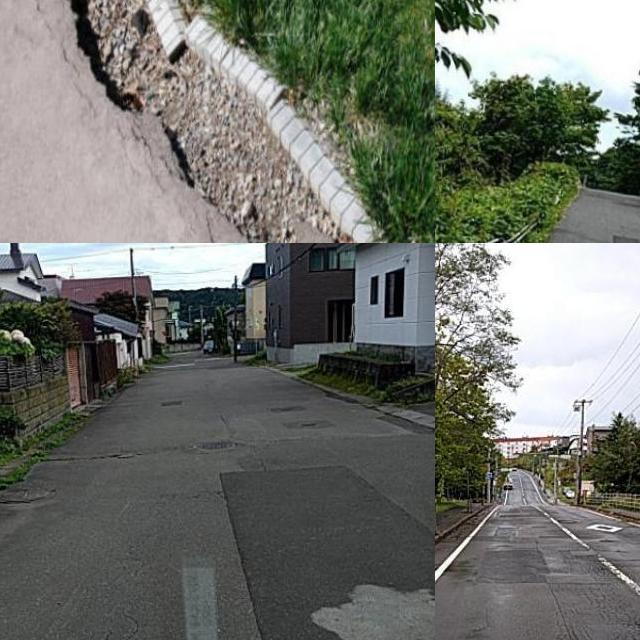Pinggir: (52, 0, 429, 243)
Sambungan: (220, 464, 435, 640), (482, 542, 554, 584)
